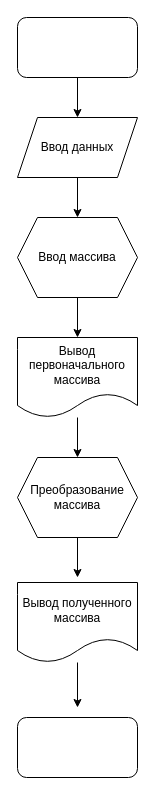
Image size: 155x795. Some labels were removed from this diagram. The centre of each missing label's shape, as x and y in pixels:
"Конец" belongs at point (77, 747).
"Начало" belongs at point (77, 47).
